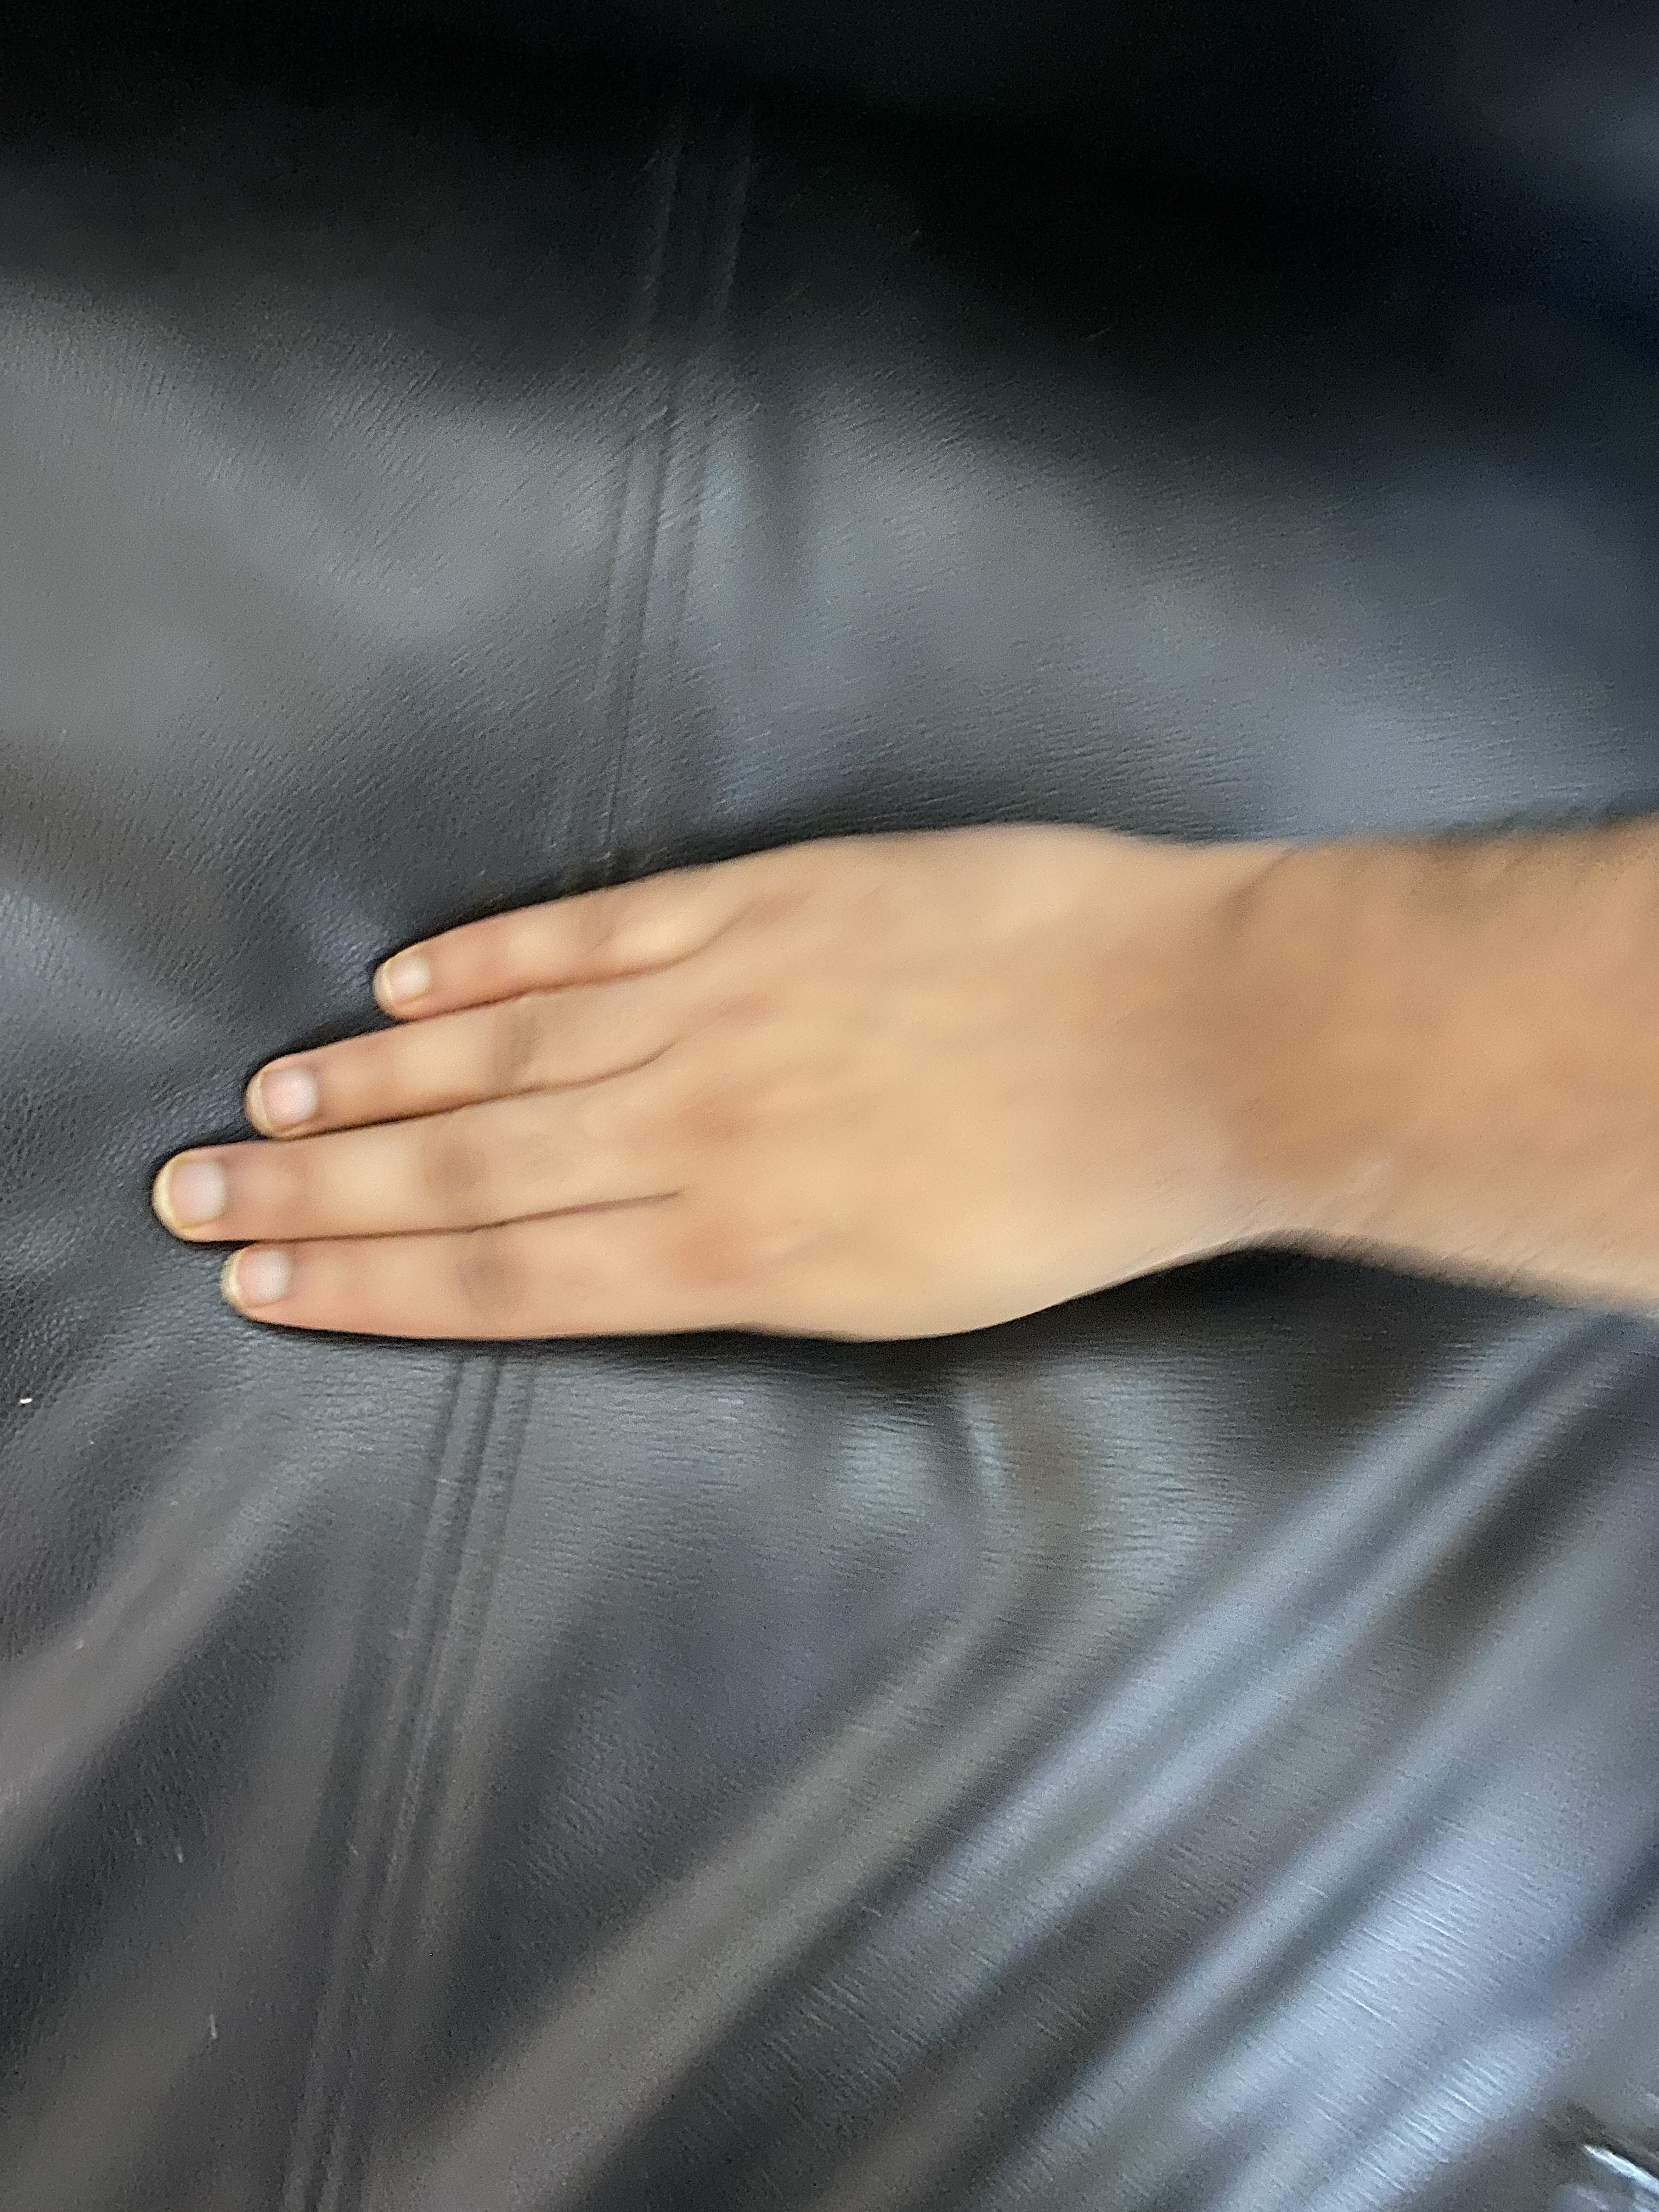right: (124, 493, 1659, 1468)
